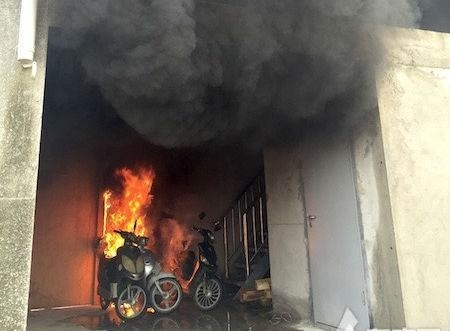fire: (99, 165, 153, 254), (114, 297, 155, 316)
